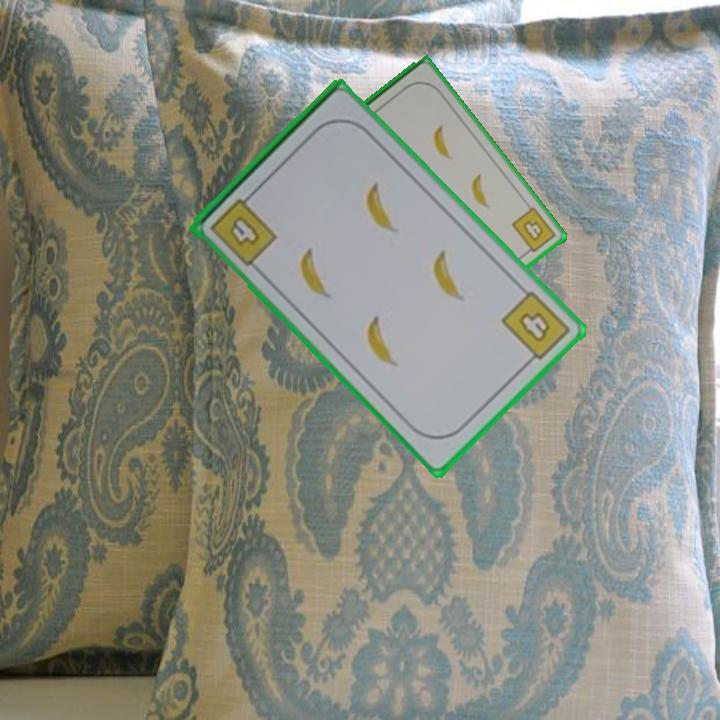4b: (498, 287, 573, 369), (206, 188, 281, 269), (508, 203, 559, 258)
